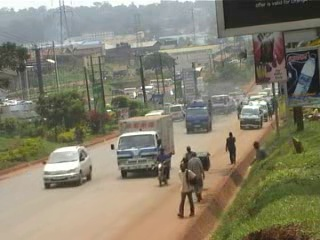Car: (40, 142, 95, 192)
Motorcycle: (152, 149, 173, 186)
